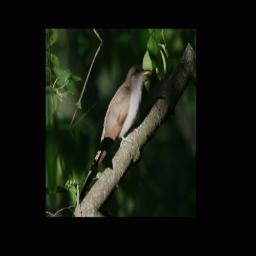Cuckoo: (70, 62, 158, 206)
